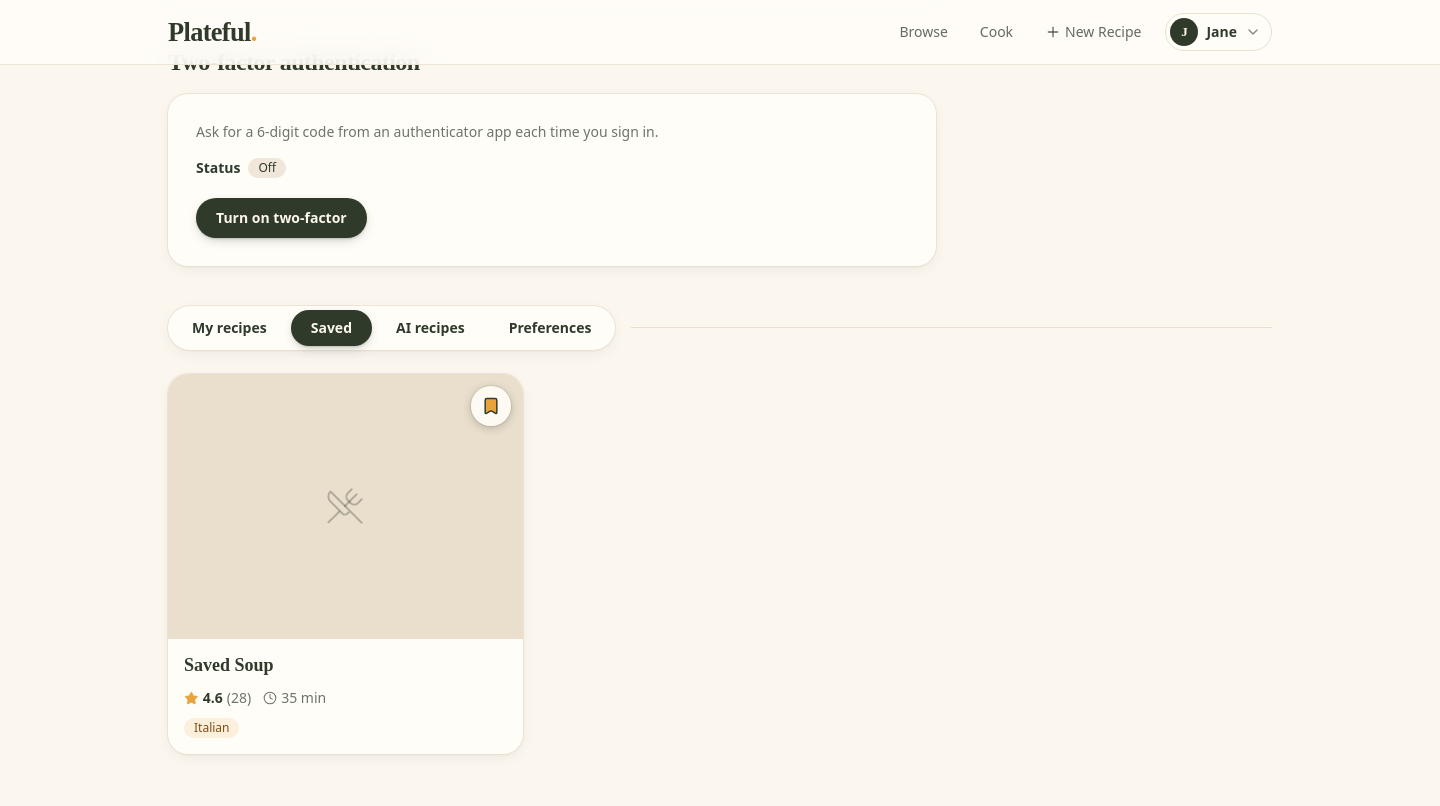
Scenario: profile tabs › unsaveRemovesFromSavedTab
(page scrolled)
Click the button named "Remove Saved Soup from saved" at (491, 406), box x1=471 y1=386 x2=511 y2=426
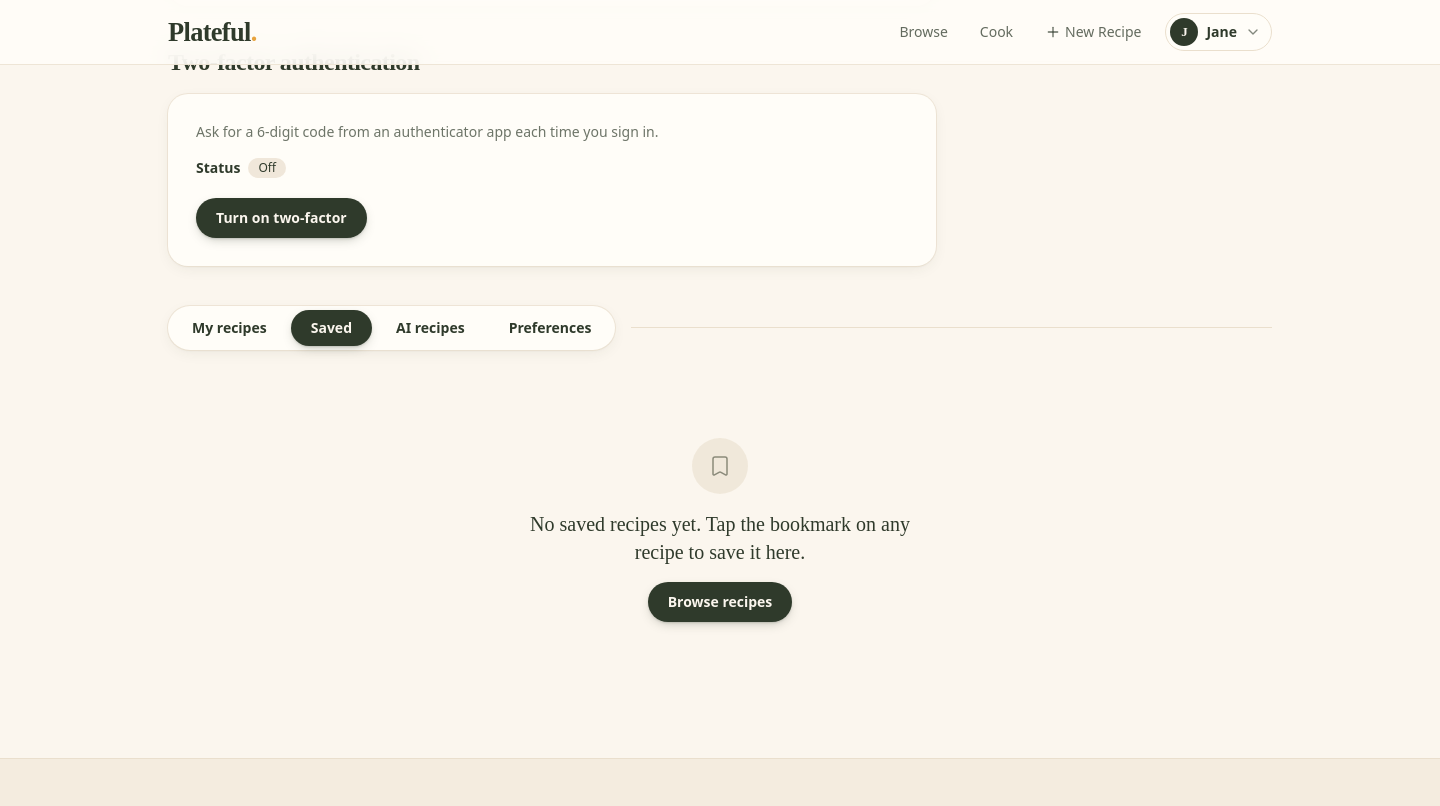
Now the link "Saved Soup" is gone
Now the text "No saved recipes yet. Tap the bookmark on any recipe to save it here." is shown, box x1=528 y1=510 x2=912 y2=566
